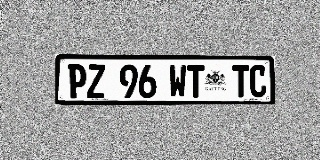6: (138, 64, 156, 98)
9: (120, 64, 138, 98)
C: (250, 65, 266, 97)
P: (68, 64, 86, 98)
T: (187, 65, 204, 98), (232, 65, 249, 98)
W: (169, 65, 186, 98)
Z: (87, 64, 105, 98)
